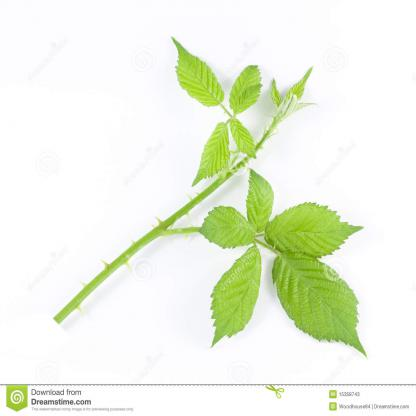Raspberry leaf: (269, 246, 375, 364), (208, 244, 267, 353), (264, 203, 369, 260), (170, 32, 224, 110), (188, 121, 233, 187), (199, 204, 259, 251), (245, 158, 275, 234), (229, 57, 264, 118), (227, 112, 259, 161)
